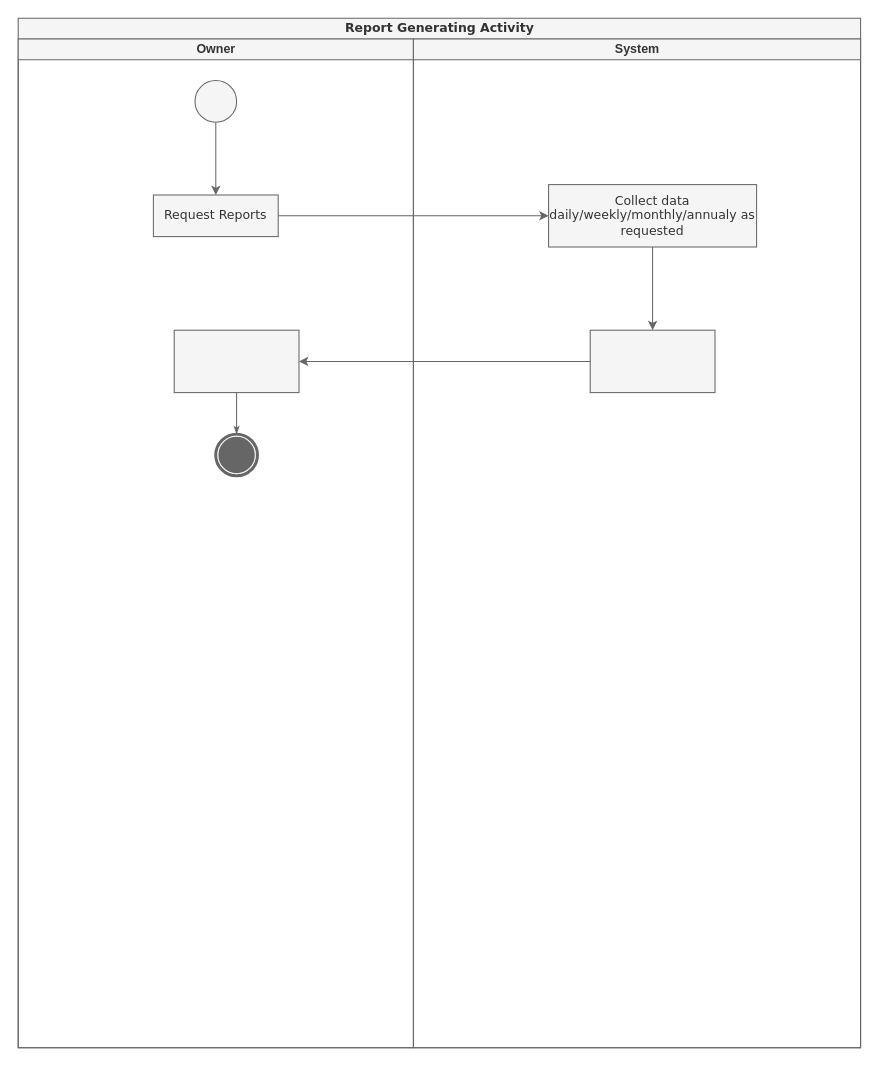
This 879x1066 diagram has some shape labels left out. Here are the shapes that lost their labels. From the top down, the box of each, then its label:
(173, 329, 299, 393): View/export Report
(589, 329, 715, 393): Generate Report
